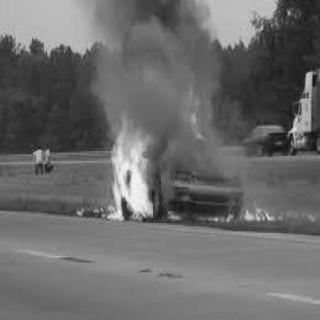Fire: (103, 95, 155, 222), (243, 204, 279, 224)
Smoke: (87, 0, 217, 113)
